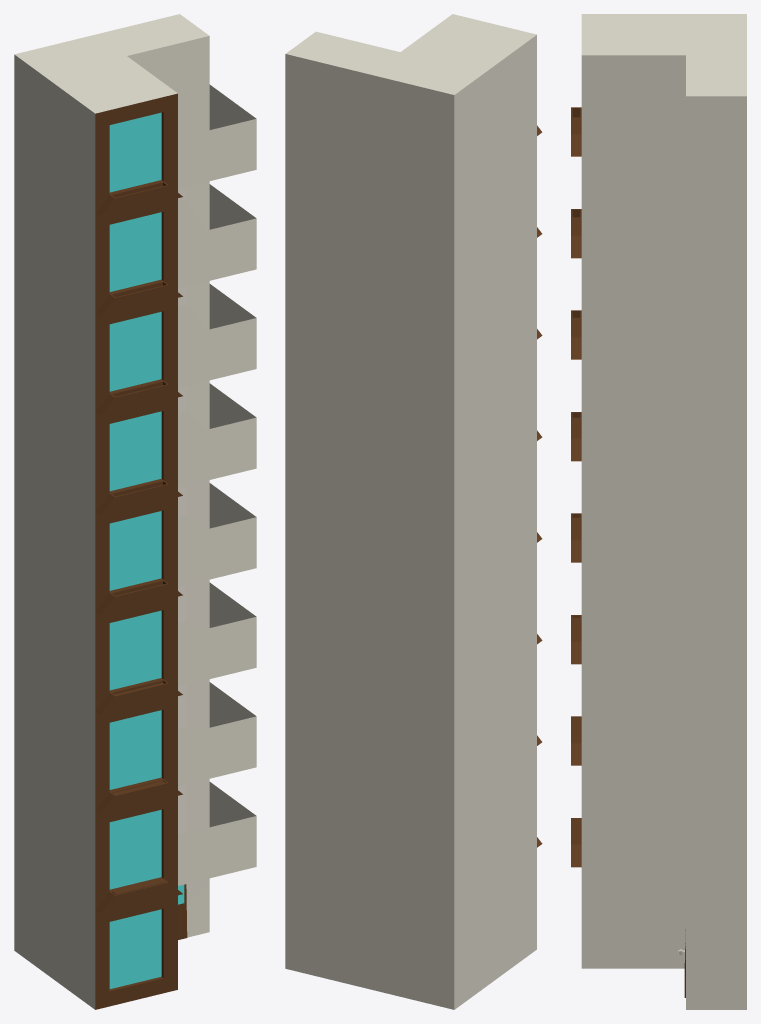
File: Tower White.fbx
3 renders of one model, left to right at view 1: azimuth 30°, elevation 25°; view 2: azimuth 150°, elevation 25°; view 3: azimuth 270°, elevation 25°, orthographic. The views are drawn at different scales.
Parts seen in each view (by area): view 1: Cube; view 2: Cube; view 3: Cube.
Part boxes in pixels (x1,y1,x2,y2): Cube: [14, 14, 256, 1009]; Cube: [285, 14, 542, 1009]; Cube: [571, 14, 746, 1009].
Size of the model in its own units: 2037 by 10537 by 1839.
